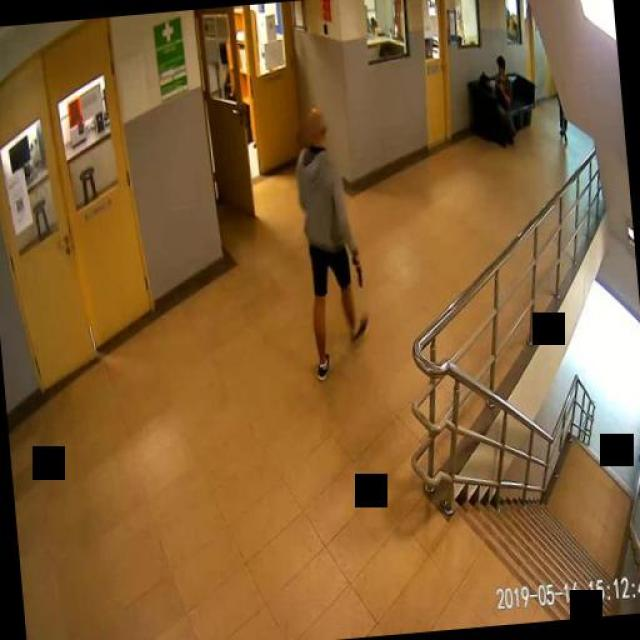gun: (346, 249, 366, 289)
